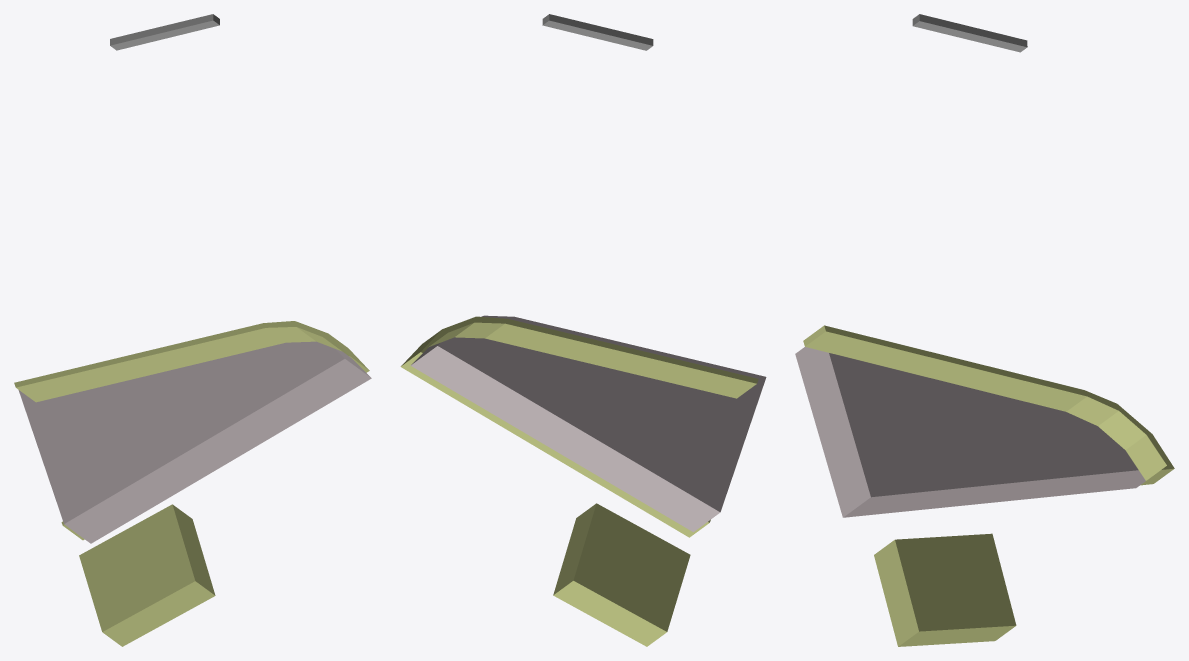
3 views of the same model, side by side, from view 1: azimuth 30°, elevation 25°; view 2: azimuth 150°, elevation 25°; view 3: azimuth 330°, elevation 25° (orthographic). The views are drawn at different scales.
Visible parts, largest first — view 1: 0_2_0_1_1_2_1; view 2: 0_2_0_1_1_2_1; view 3: 0_2_0_1_1_2_1.
Boxes of the visible parts, x1,y1,x2,y2 form: 0_2_0_1_1_2_1: [14, 14, 371, 646]; 0_2_0_1_1_2_1: [400, 14, 766, 646]; 0_2_0_1_1_2_1: [795, 14, 1174, 646].
Bounding box in the file's own units: 86.47 × 146 × 13.78.
